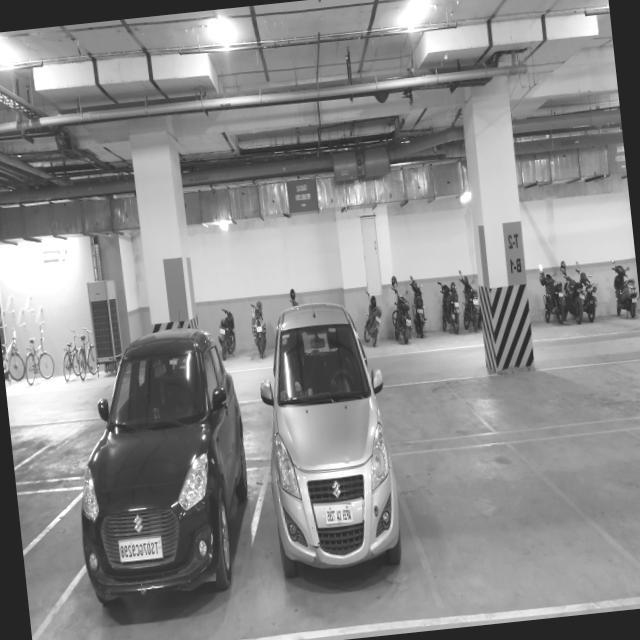car: (105, 390, 234, 590), (267, 382, 389, 588)
free: (442, 460, 574, 618), (580, 420, 640, 569), (390, 368, 468, 456)
